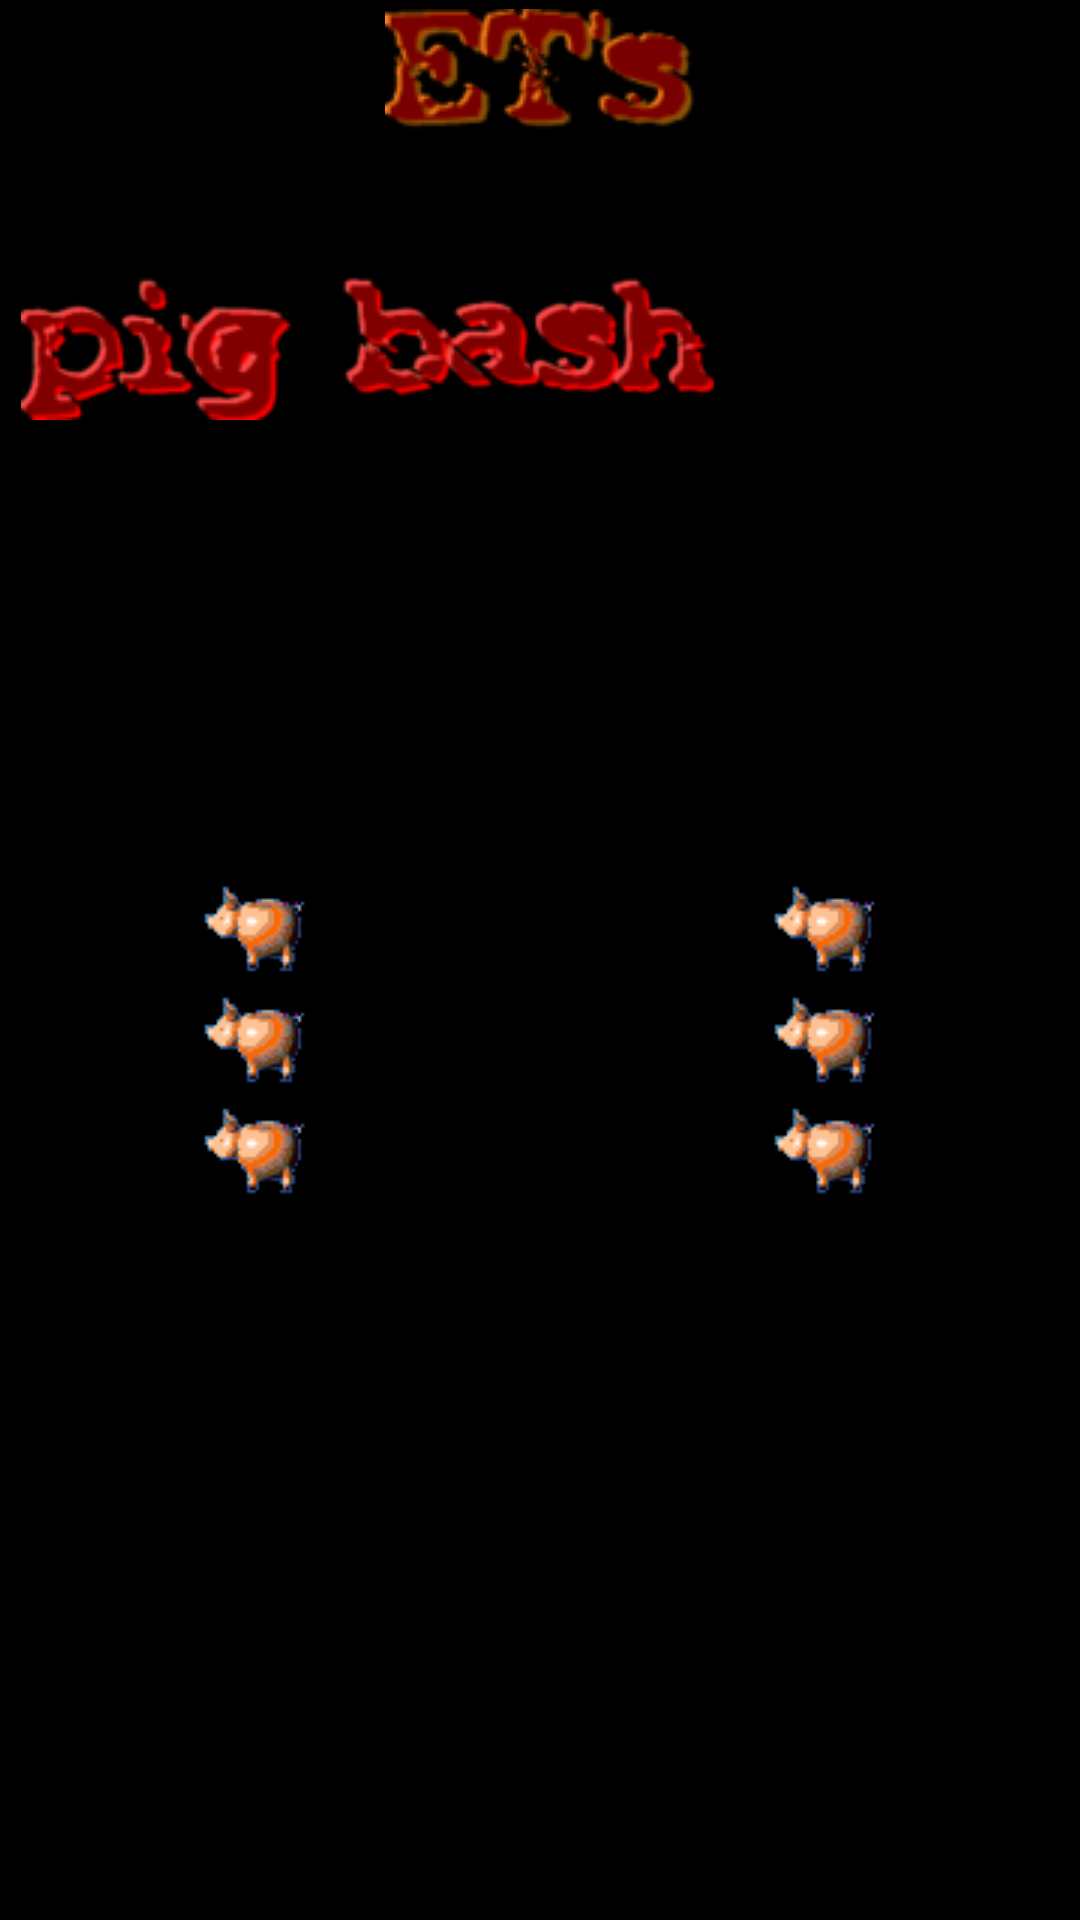

Icons on this 1080 × 1920 Android screen, each with its box as (x1, y1, x2, y2):
pig: (204, 886, 305, 972), (774, 886, 875, 972), (204, 997, 305, 1083), (774, 997, 875, 1083), (204, 1108, 305, 1194), (774, 1108, 875, 1194)
